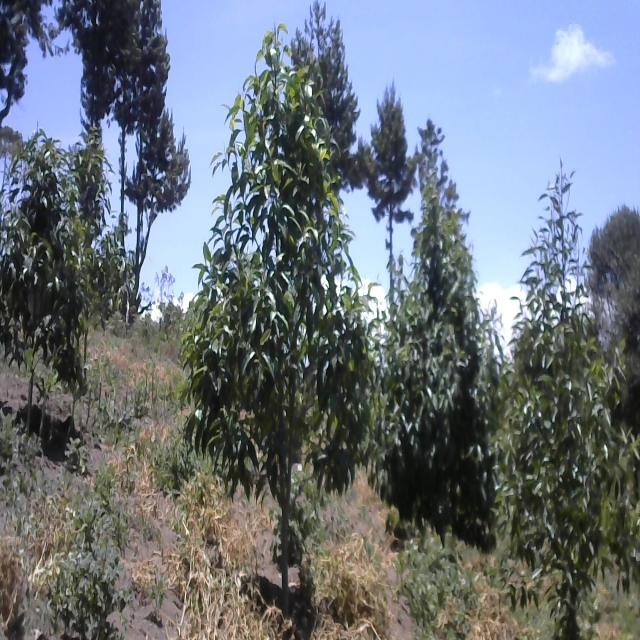Juniperus procesera: (129, 0, 195, 302), (358, 82, 420, 258), (294, 5, 356, 178)
Prunus Africana: (193, 30, 371, 628), (506, 173, 636, 636), (383, 160, 505, 534), (0, 140, 99, 389)
